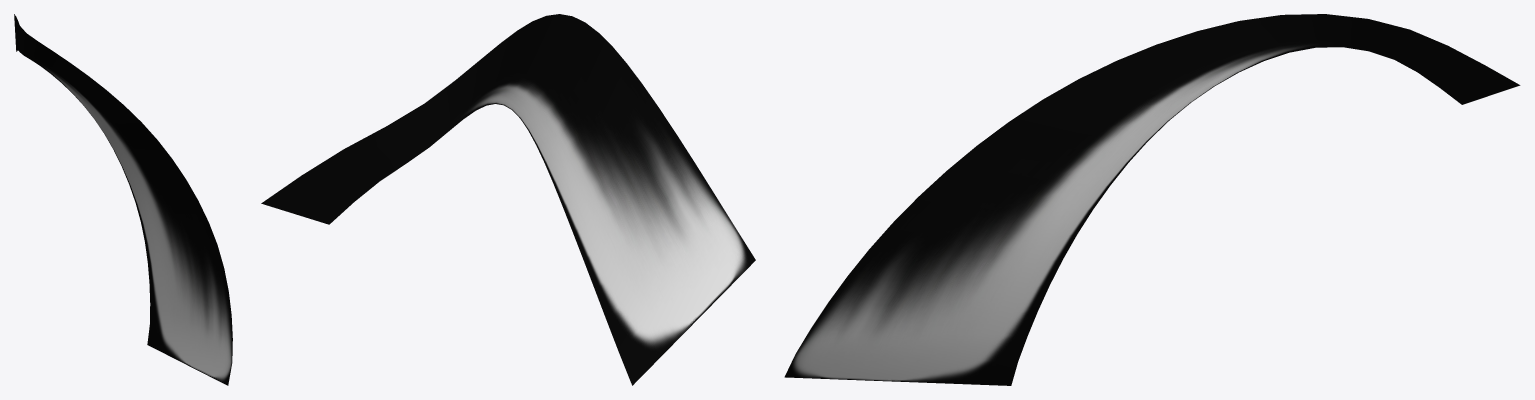
File: AninCurve.fbx
3 renders of one model, left to right at view 1: azimuth 30°, elevation 25°; view 2: azimuth 150°, elevation 25°; view 3: azimuth 270°, elevation 25°, orthographic. The views are drawn at different scales.
Parts seen in each view (by area): view 1: VFX_HammerSmash; view 2: VFX_HammerSmash; view 3: VFX_HammerSmash.
Boxes of the visible parts, box(x1,y1,x2,y2) form: VFX_HammerSmash: box(14, 14, 232, 385); VFX_HammerSmash: box(261, 14, 755, 385); VFX_HammerSmash: box(784, 14, 1520, 385).
Bounding box in the file's own units: 0.9891 × 5.07 × 9.26.
1 material, 1 textured.
